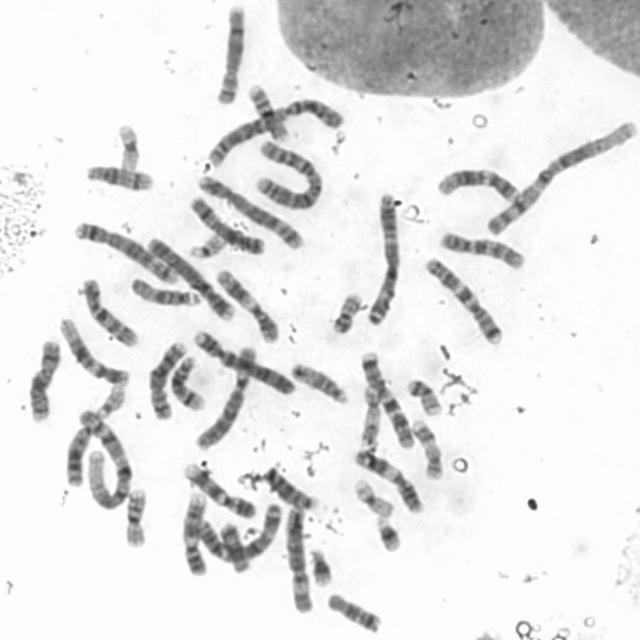A1: (480, 116, 639, 239), (75, 404, 136, 512)
A2: (204, 93, 348, 168), (250, 135, 325, 211)
A3: (191, 497, 284, 565), (362, 189, 404, 327)
B4: (141, 231, 239, 323), (188, 325, 298, 398)
B5: (194, 169, 309, 251), (71, 218, 181, 286)
C10: (77, 274, 143, 349), (435, 226, 528, 271)
C11: (211, 264, 282, 344), (349, 444, 427, 516)
C12: (55, 313, 131, 386), (432, 162, 522, 203)
C6: (191, 341, 259, 452), (281, 503, 314, 614)
C7: (422, 254, 506, 347), (355, 348, 417, 452)
C8: (212, 0, 250, 106), (143, 336, 189, 422)
C9: (180, 458, 258, 520), (178, 486, 208, 576)
D13: (260, 464, 320, 513), (62, 416, 96, 488)
D14: (81, 159, 158, 193), (166, 351, 207, 411)
D15: (287, 357, 352, 406), (126, 272, 204, 308)
E16: (242, 77, 291, 143), (120, 484, 149, 549)
E17: (408, 415, 446, 481), (357, 381, 382, 447)
E18: (322, 587, 384, 634), (215, 518, 253, 574)
F19: (350, 474, 397, 519), (112, 118, 142, 174)
F20: (327, 287, 366, 337), (402, 374, 444, 416)
G21: (305, 543, 336, 588), (372, 512, 404, 554)
G22: (92, 379, 128, 421), (185, 230, 228, 260)
X: (186, 191, 266, 257), (23, 334, 64, 423)
